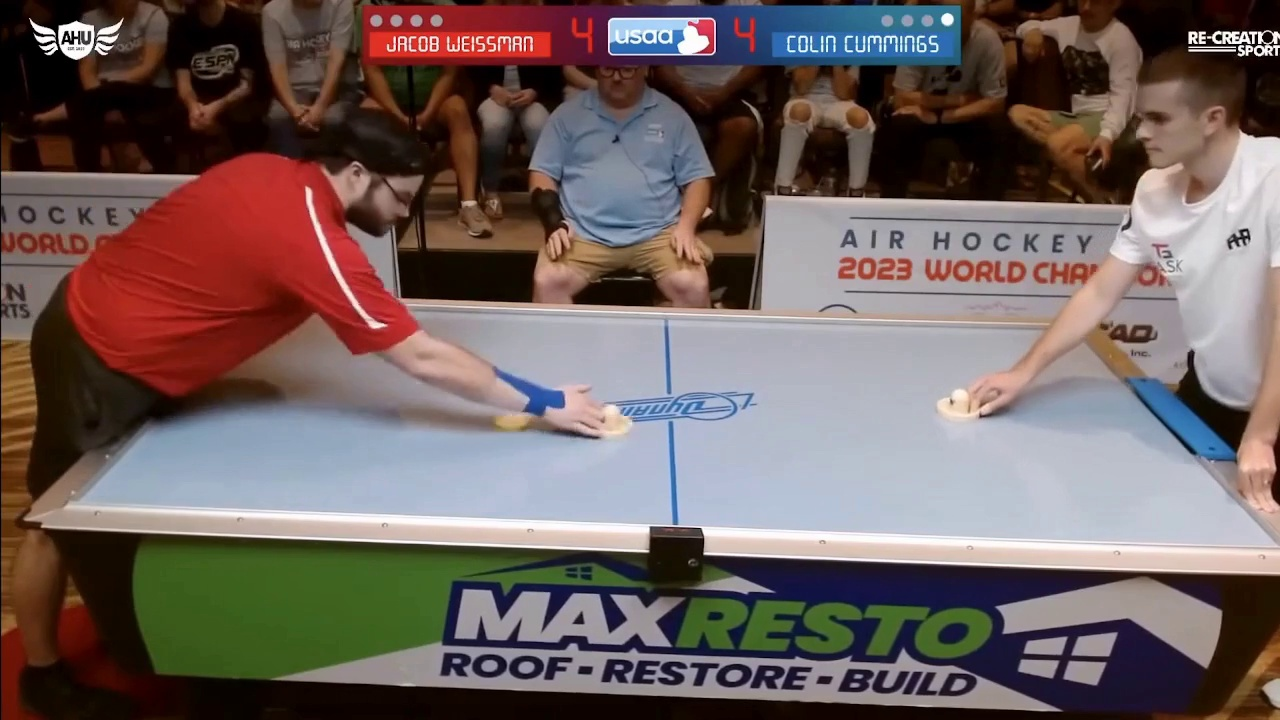player: (583, 398, 637, 438), (932, 387, 992, 423)
puck: (497, 411, 534, 433)
table: (109, 296, 1274, 550)
